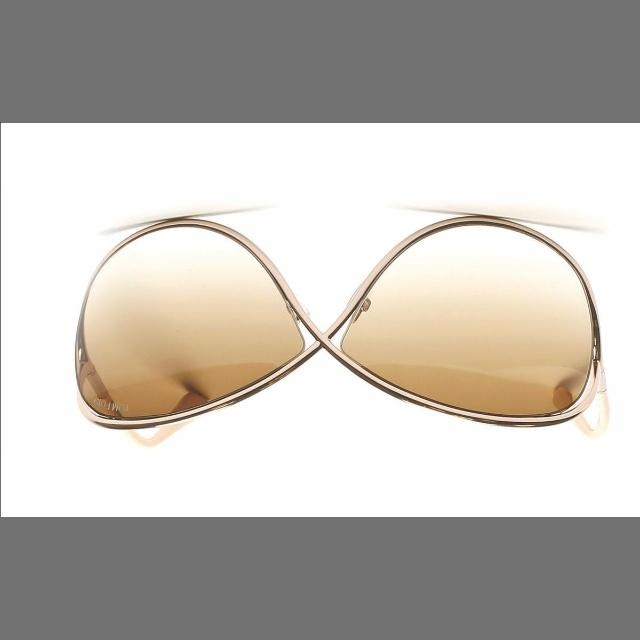Sunglasses: (48, 192, 636, 468)
